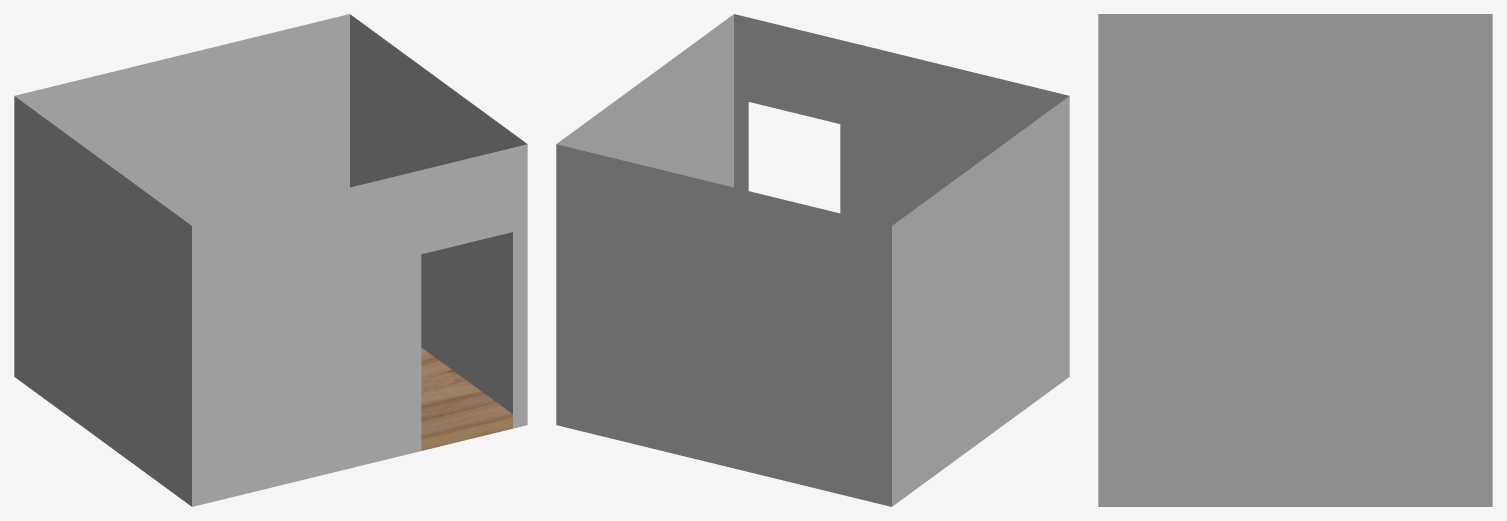
The picture shows the model from 3 angles, left to right: view 1: azimuth 30°, elevation 25°; view 2: azimuth 150°, elevation 25°; view 3: azimuth 270°, elevation 25°; orthographic projection. The views are drawn at different scales.
Parts seen in each view (by area): view 1: Plane009, Plane008, Plane010, Plane007, Plane006; view 2: Plane010, Plane008, Plane009, Plane007; view 3: Plane007, Plane008.
Part boxes in pixels (x1,y1,x2,y2): Plane009: (192, 144, 527, 506); Plane008: (14, 96, 191, 506); Plane010: (14, 14, 349, 225); Plane007: (350, 14, 527, 413); Plane006: (421, 347, 512, 450); Plane010: (556, 144, 891, 506); Plane008: (892, 96, 1069, 506); Plane009: (734, 14, 1069, 225); Plane007: (556, 14, 733, 187); Plane007: (1098, 195, 1492, 506); Plane008: (1098, 14, 1492, 195).
Size of the model in its own units: 250 by 200 by 229.
1 material, 1 textured.
